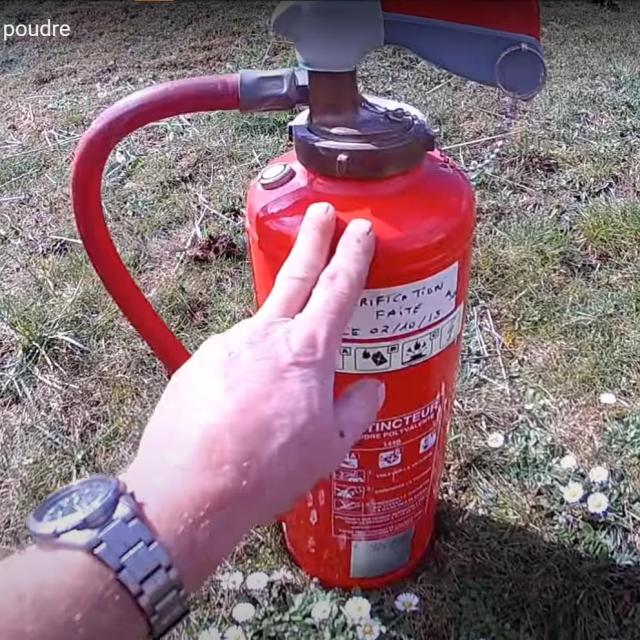fire_extinguisher: (64, 0, 559, 598)
